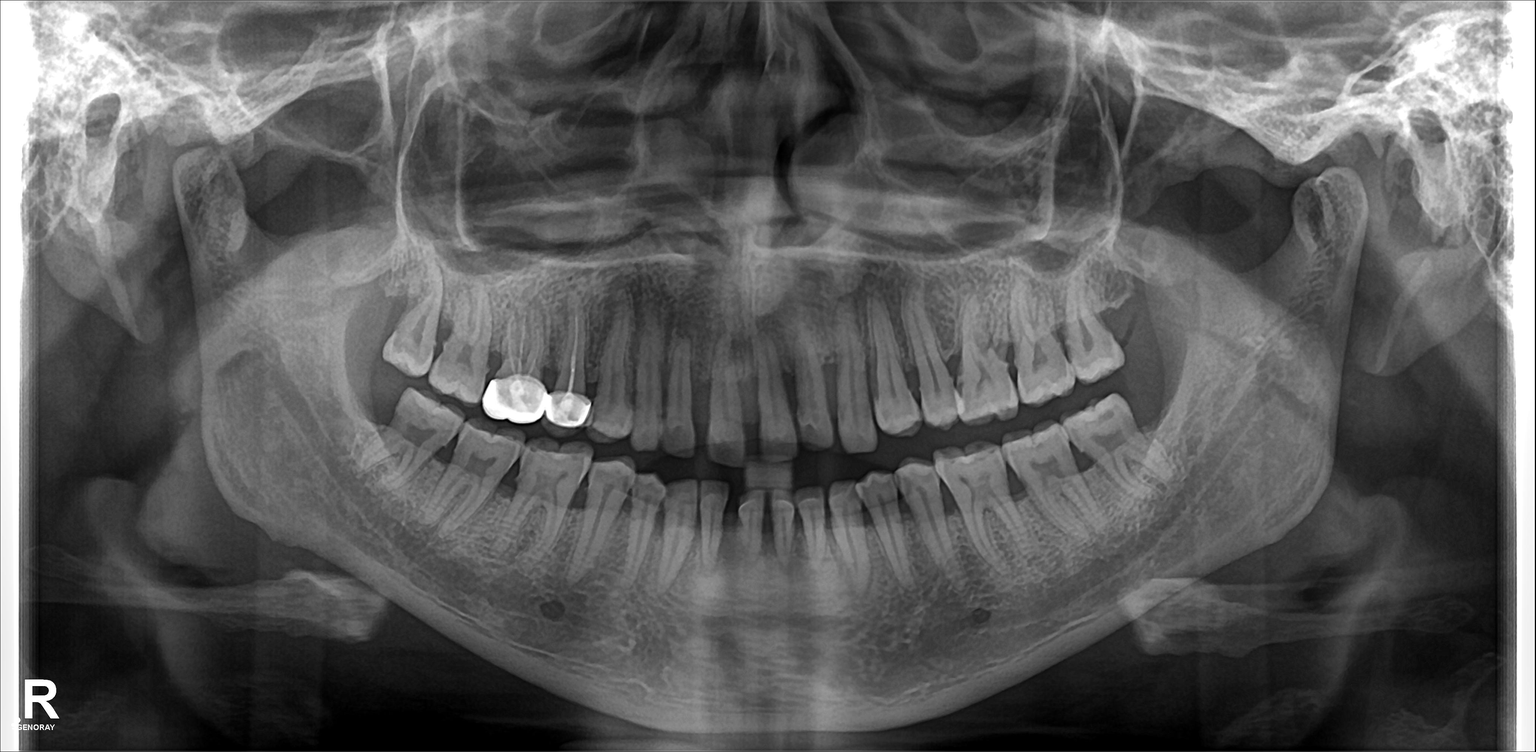Endodontically Treated Tooth: (488, 300, 547, 419), (549, 292, 593, 422)
Impacted Third Molar: (1076, 408, 1152, 490)
Missing Tooth: (1143, 359, 1208, 453), (1102, 275, 1158, 365), (350, 270, 398, 353)
